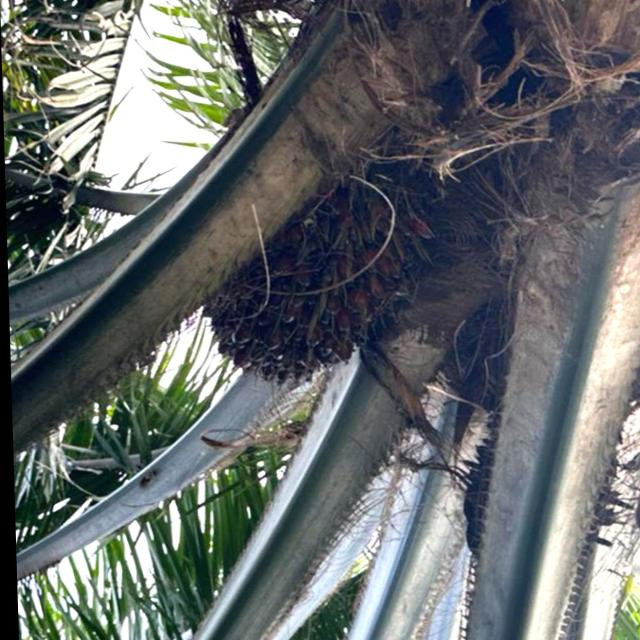ripe: (190, 150, 438, 404)
